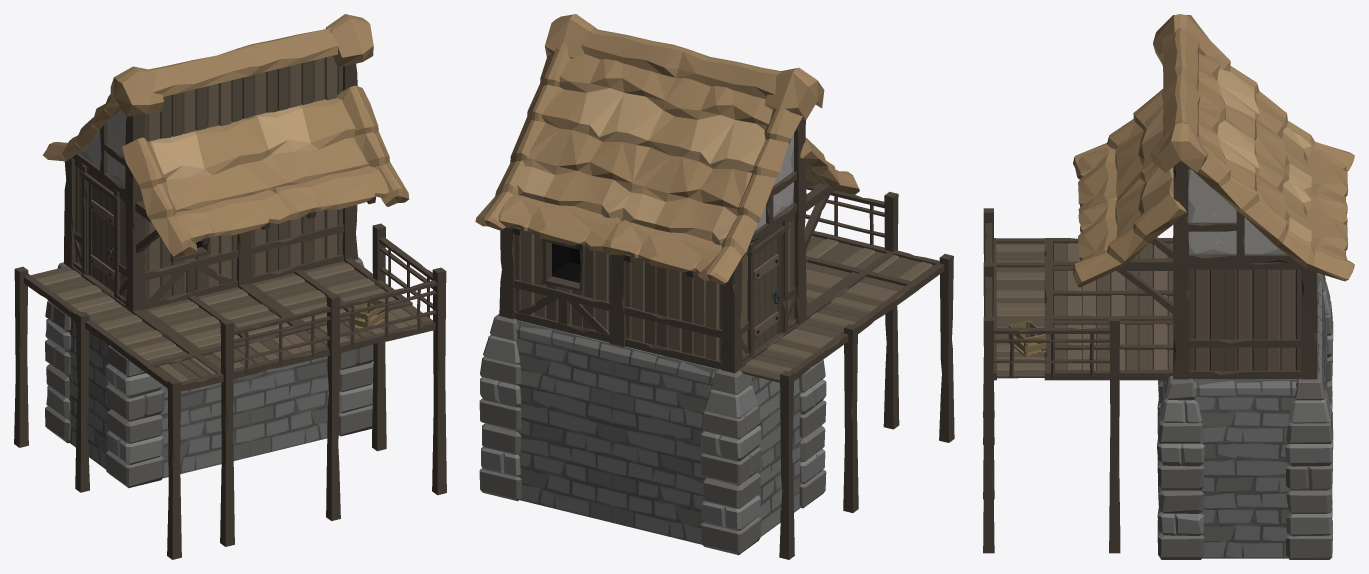
File: bld_hut.gltf
3 views of the same model, side by side, from view 1: azimuth 30°, elevation 25°; view 2: azimuth 150°, elevation 25°; view 3: azimuth 270°, elevation 25° (orthographic). The views are drawn at different scales.
Parts seen in each view (by area): view 1: bld_hut; view 2: bld_hut; view 3: bld_hut.
Part boxes in pixels (<box>): bld_hut: <box>14,14,446,559</box>; bld_hut: <box>475,14,954,559</box>; bld_hut: <box>983,14,1354,559</box>.
Bounding box in the file's own units: 6.87 × 9.24 × 7.25.
1 material, 1 textured.
